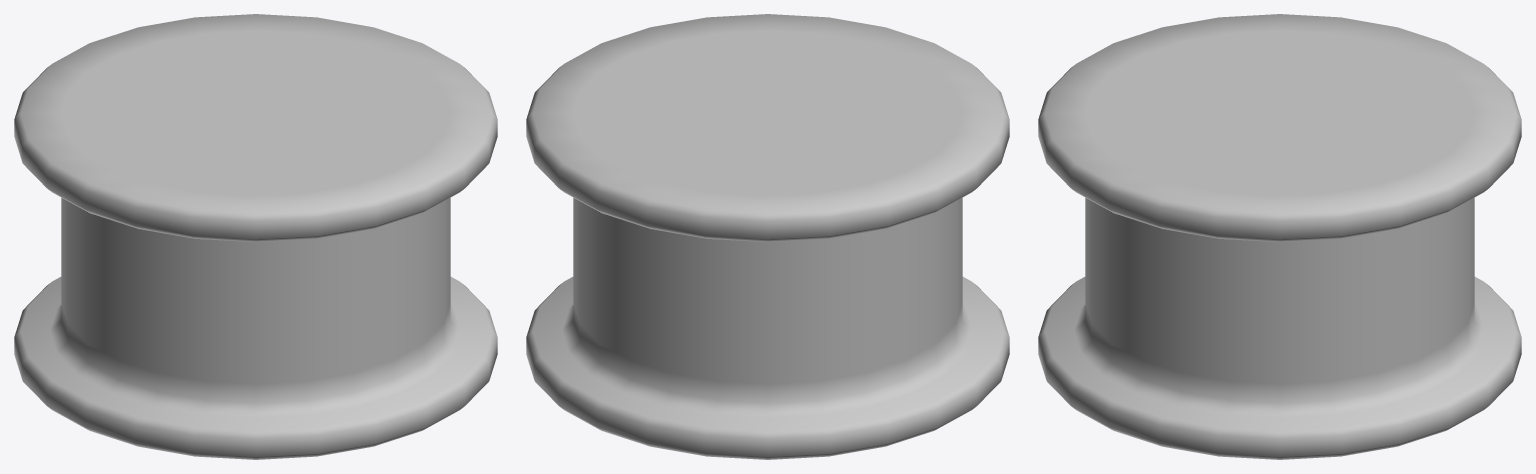
The model's file is podium.glb.
The picture shows the model from 3 angles, left to right: view 1: azimuth 30°, elevation 25°; view 2: azimuth 150°, elevation 25°; view 3: azimuth 270°, elevation 25°; orthographic projection.
Parts seen in each view (by area): view 1: podium; view 2: podium; view 3: podium.
Boxes of the visible parts, x1=… form: podium: x1=14, y1=14, x2=497, y2=459; podium: x1=526, y1=14, x2=1009, y2=459; podium: x1=1038, y1=14, x2=1521, y2=459.
Bounding box in the file's own units: 2.48 × 1.4 × 2.48.
Materials: 1 (1 with a texture image).
